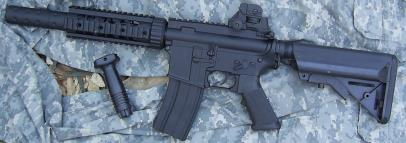rifle: (5, 2, 397, 132)
